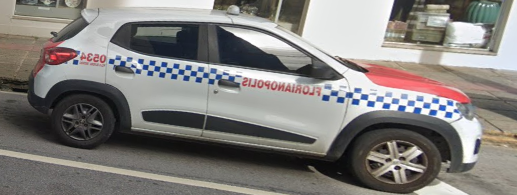car: (28, 6, 484, 195)
